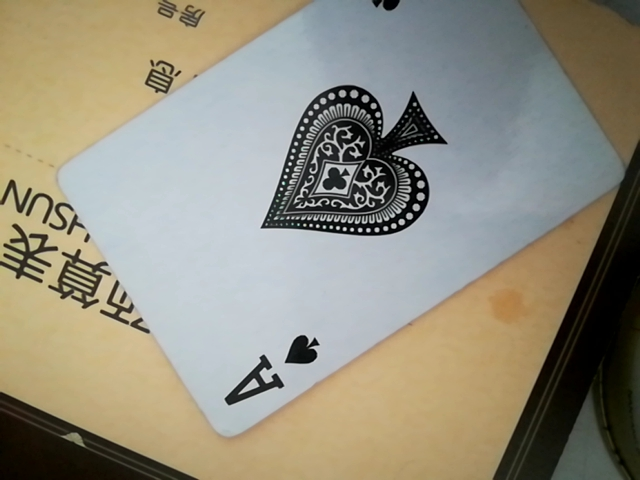ht a: (46, 4, 634, 445)
